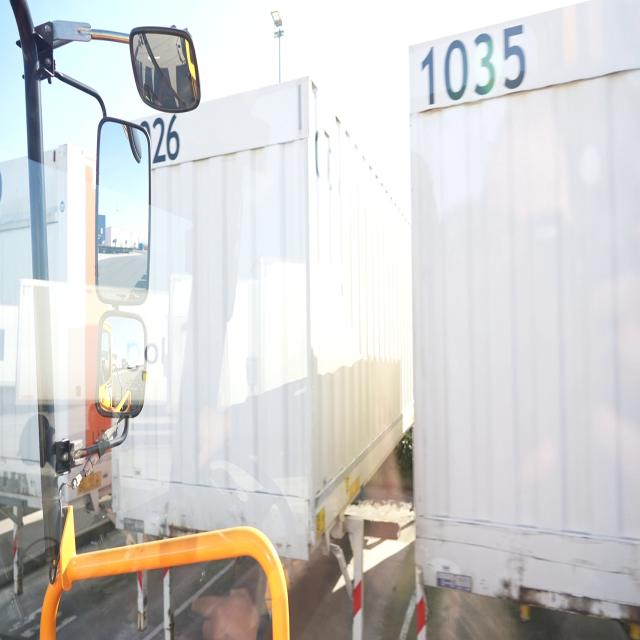Code: (414, 26, 532, 110)
